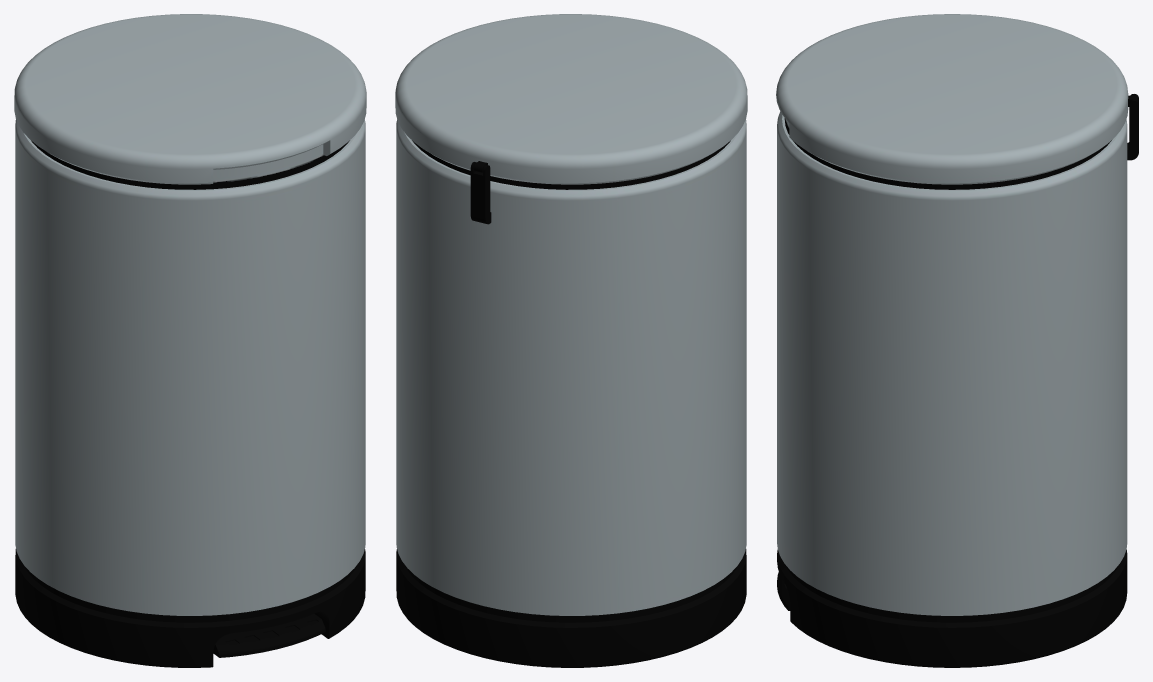
Rendered from bin.fbx.
3 views of the same model, side by side, from view 1: azimuth 30°, elevation 25°; view 2: azimuth 150°, elevation 25°; view 3: azimuth 270°, elevation 25° (orthographic).
Visible parts, largest first — view 1: Bin_Baked; view 2: Bin_Baked; view 3: Bin_Baked.
Boxes of the visible parts, <box> form: Bin_Baked: <box>14,14,366,667</box>; Bin_Baked: <box>395,14,747,667</box>; Bin_Baked: <box>776,14,1138,667</box>.
Bounding box in the file's own units: 20.65 × 33 × 21.27.
Materials: 1 (1 with a texture image).
